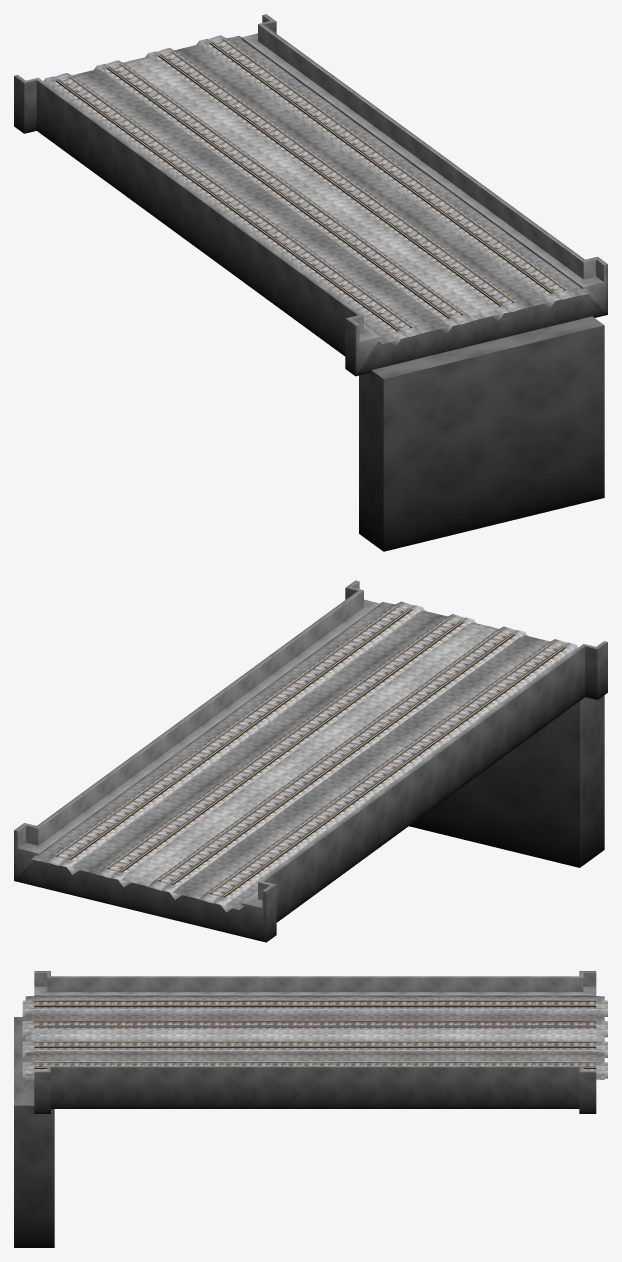
Rendered from NK_4RAIL.glb.
The picture shows the model from 3 angles, top to bottom: view 1: azimuth 30°, elevation 25°; view 2: azimuth 150°, elevation 25°; view 3: azimuth 270°, elevation 25°; orthographic projection. The views are drawn at different scales.
Parts seen in each view (by area): view 1: Rail, obj2, RG_R, RG_L; view 2: Rail, obj2, RG_R, RG_L; view 3: Rail, obj2, RG_R, RG_L.
Boxes of the visible parts, x1=… form: Rail: x1=14, y1=14, x2=607, y2=376; obj2: x1=359, y1=316, x2=604, y2=551; RG_R: x1=57, y1=41, x2=553, y2=330; RG_L: x1=68, y1=39, x2=563, y2=326; Rail: x1=14, y1=580, x2=607, y2=942; obj2: x1=409, y1=695, x2=604, y2=867; RG_R: x1=68, y1=608, x2=564, y2=896; RG_L: x1=57, y1=605, x2=553, y2=893; Rail: x1=22, y1=971, x2=607, y2=1113; obj2: x1=14, y1=1017, x2=54, y2=1247; RG_R: x1=34, y1=1000, x2=596, y2=1062; RG_L: x1=34, y1=1004, x2=596, y2=1066.
Bounding box in the file's own units: 64 × 53.51 × 159.
Materials: 9 (8 with a texture image).
